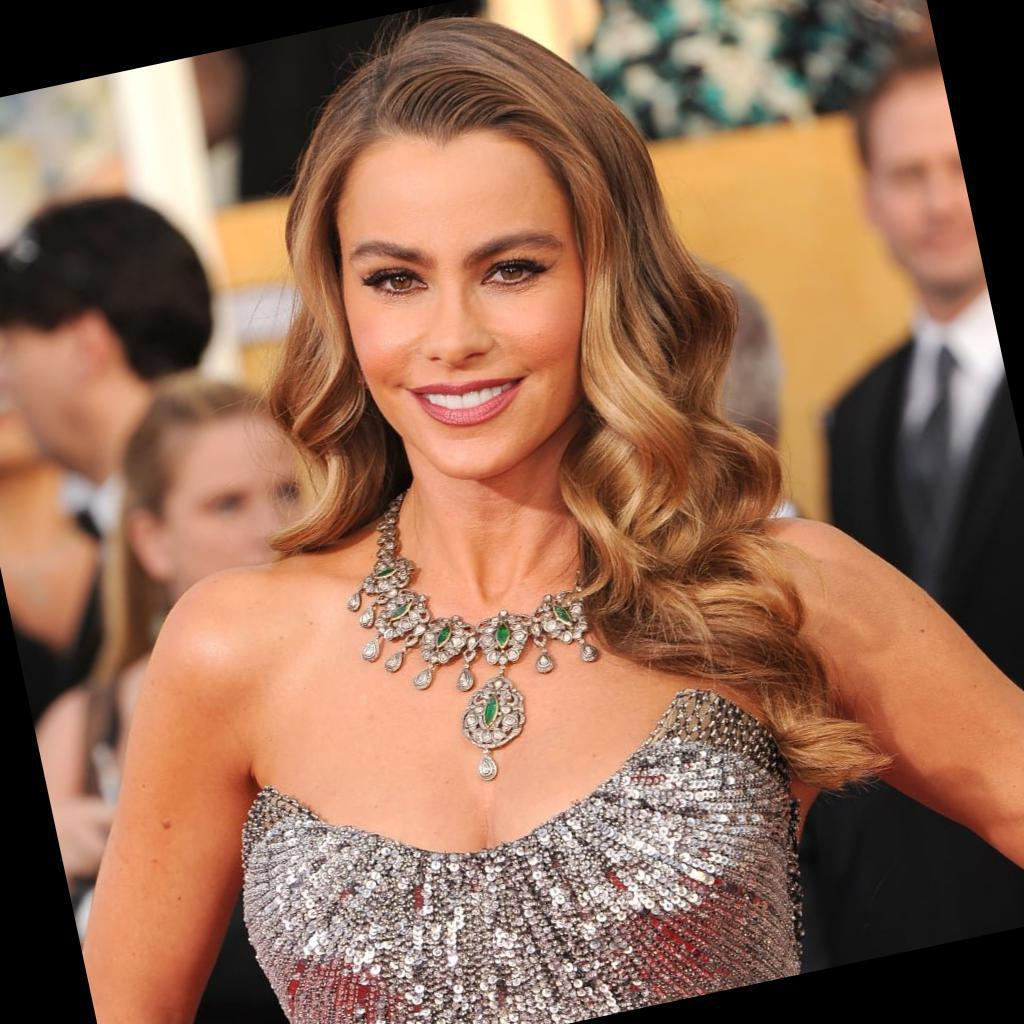Sober: (335, 136, 567, 463)
